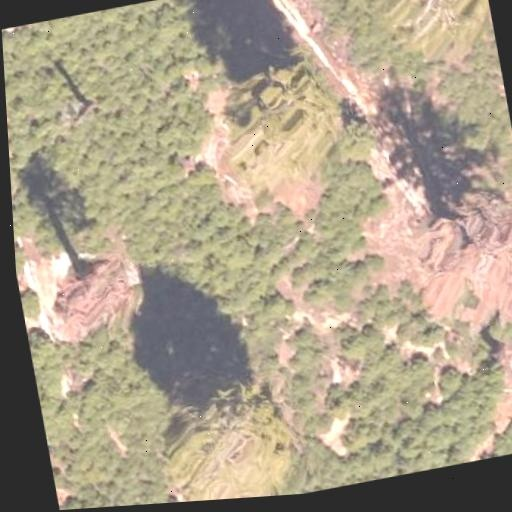tree-top: (146, 376, 319, 504), (386, 177, 512, 339), (208, 49, 352, 187), (44, 246, 145, 342), (376, 0, 494, 50)
